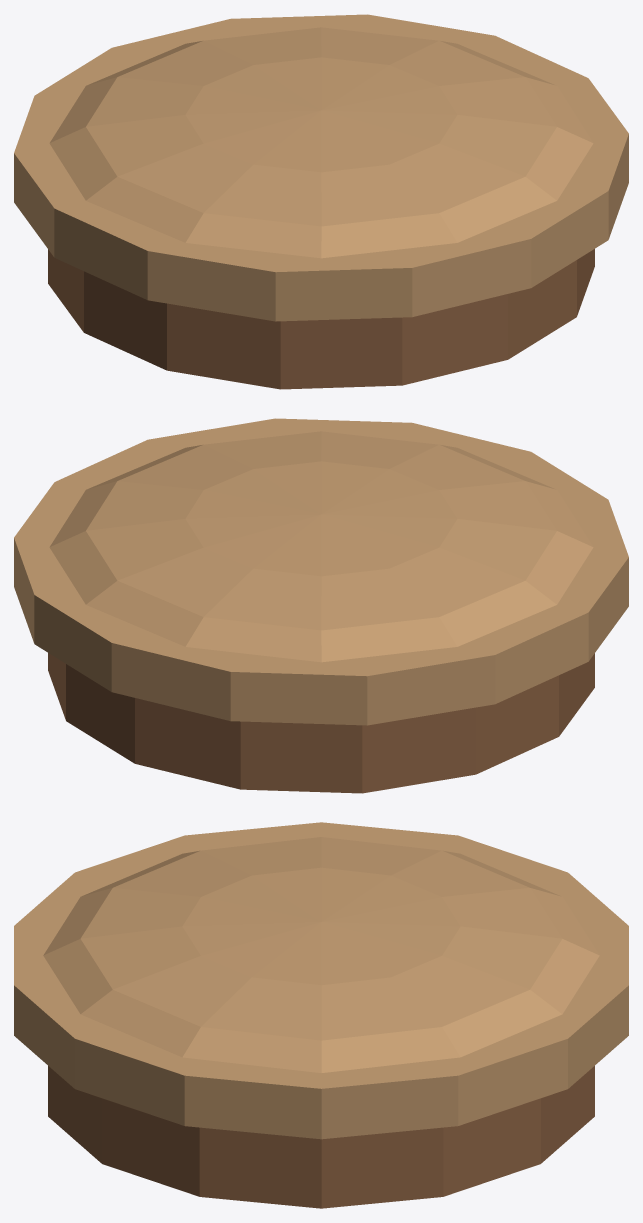
Rendered from jar_cylinder_cork.obj.
3 views of the same model, one above another, from view 1: azimuth 30°, elevation 25°; view 2: azimuth 150°, elevation 25°; view 3: azimuth 270°, elevation 25° (orthographic). The views are drawn at different scales.
Visible parts, largest first — view 1: jar_cylinder_cork; view 2: jar_cylinder_cork; view 3: jar_cylinder_cork.
Part boxes in pixels (x1,y1,x2,y2): jar_cylinder_cork: (14,14,628,389); jar_cylinder_cork: (14,418,628,793); jar_cylinder_cork: (14,822,628,1208).
Size of the model in its own units: 0.136 by 0.04 by 0.1326.
Materials: 1 (1 with a texture image).
